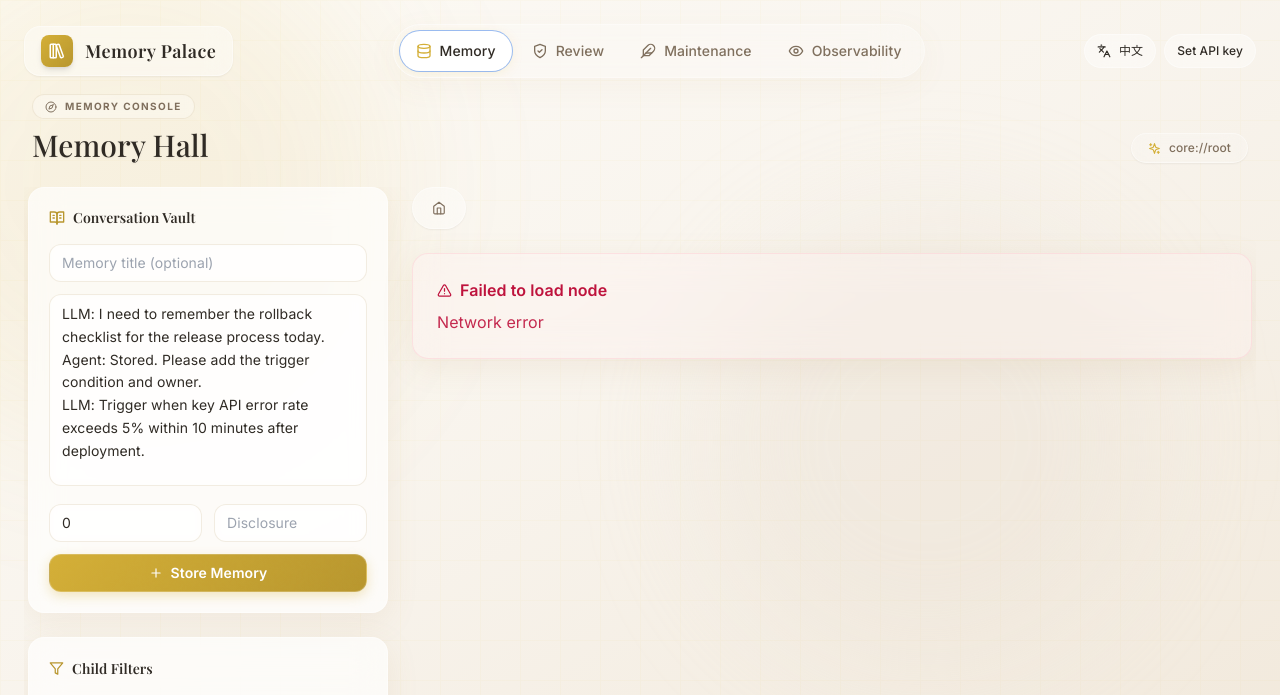
App routing › shows an error instead of a false success when server save succeeds but browser auth persistence fails
The image size is (1280, 695).
Click the button "Set API key" at (1210, 51), box x1=1164 y1=34 x2=1256 y2=68
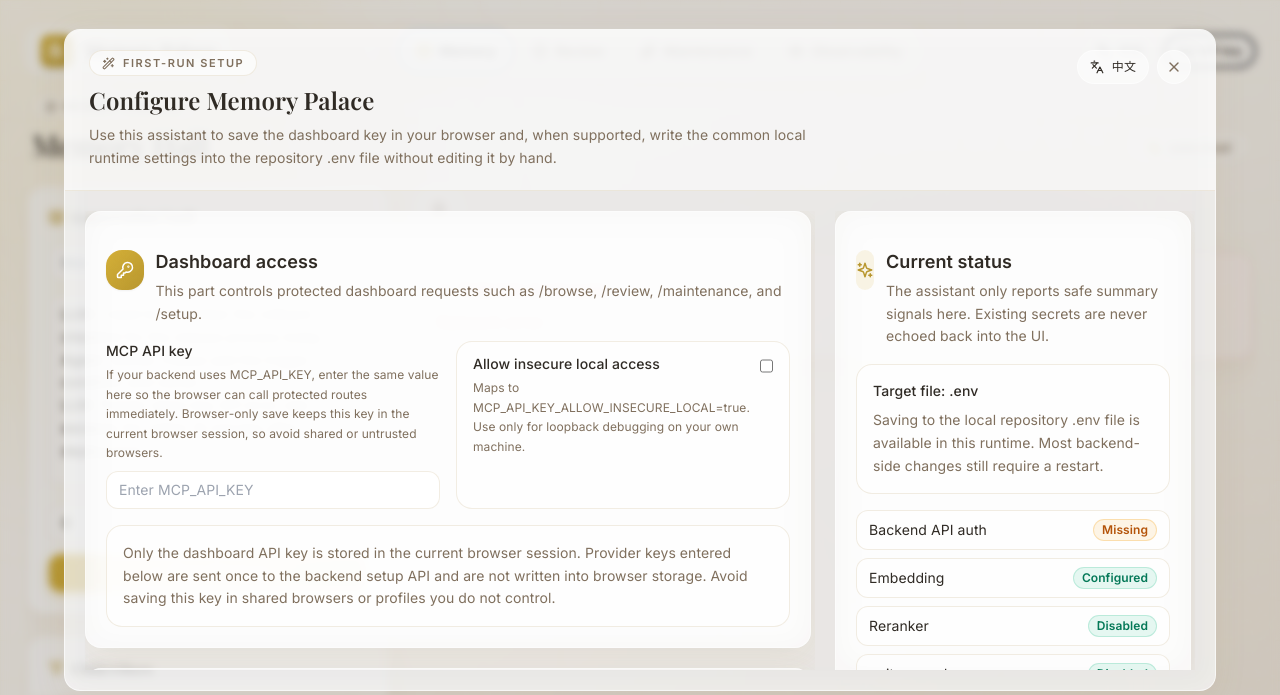
Type "stored-key" into the password field with placeholder "Enter MCP_API_KEY" at (273, 490), box x1=106 y1=471 x2=440 y2=509
(page scrolled)
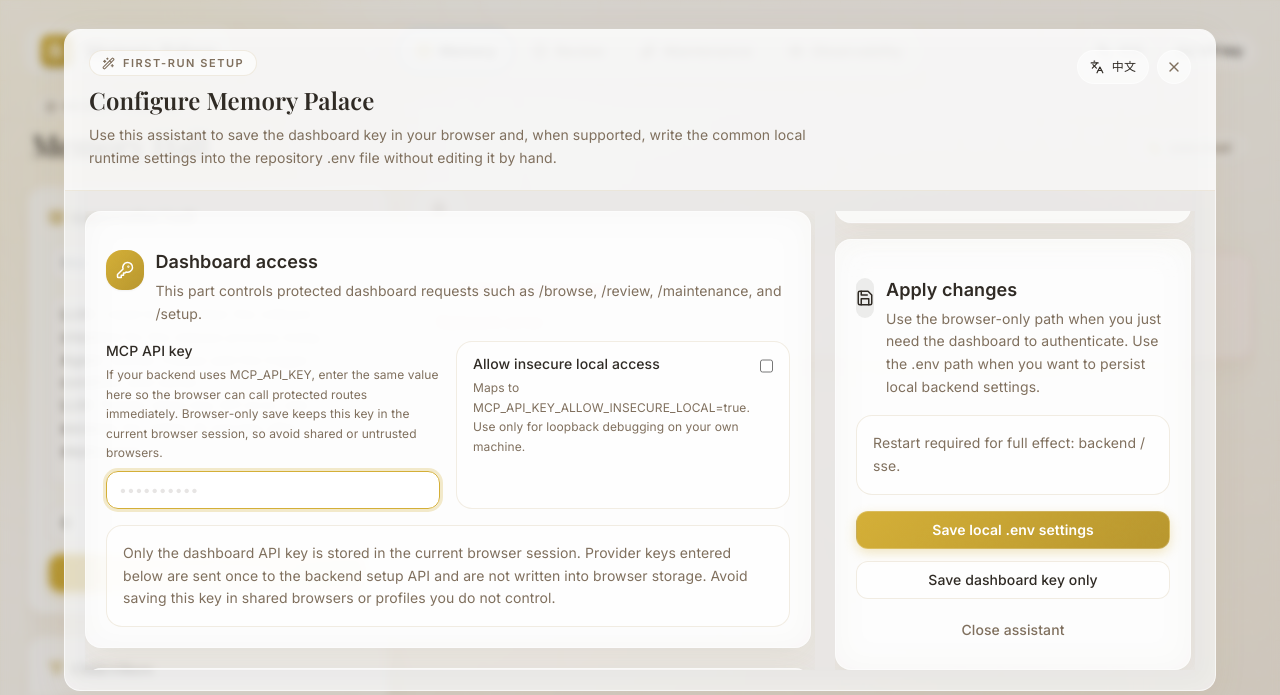
Click the button "Save local .env settings" at (1013, 530), box x1=856 y1=511 x2=1170 y2=549
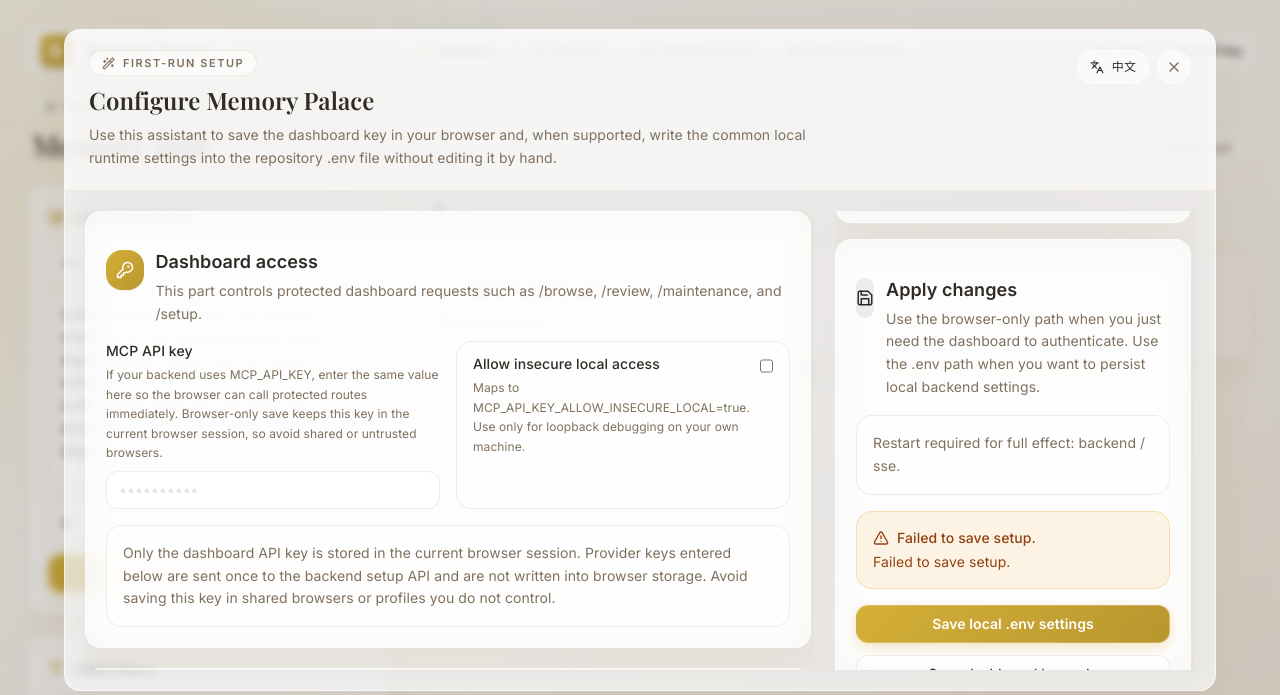
Result: the dialog "Configure Memory Palace" is shown
Result: the text "Failed to save setup." is shown at x1=873 y1=529 x2=1036 y2=546
